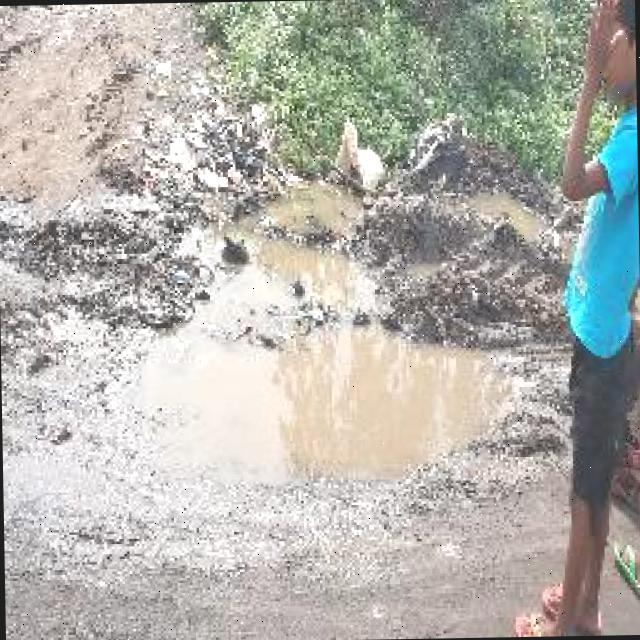waterlogging: (114, 338, 510, 494)
